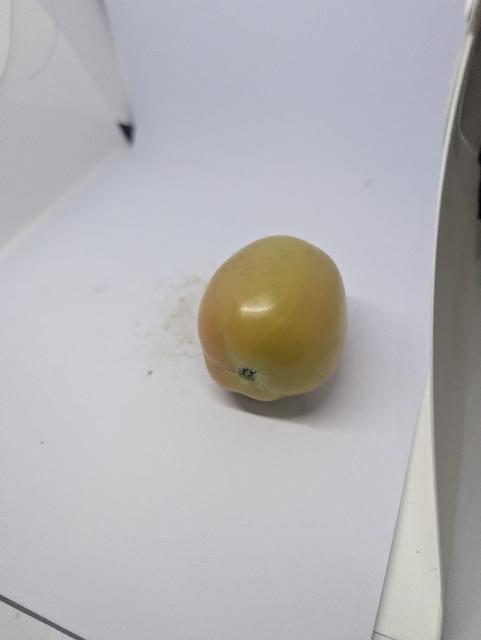breaker: (198, 236, 347, 401)
